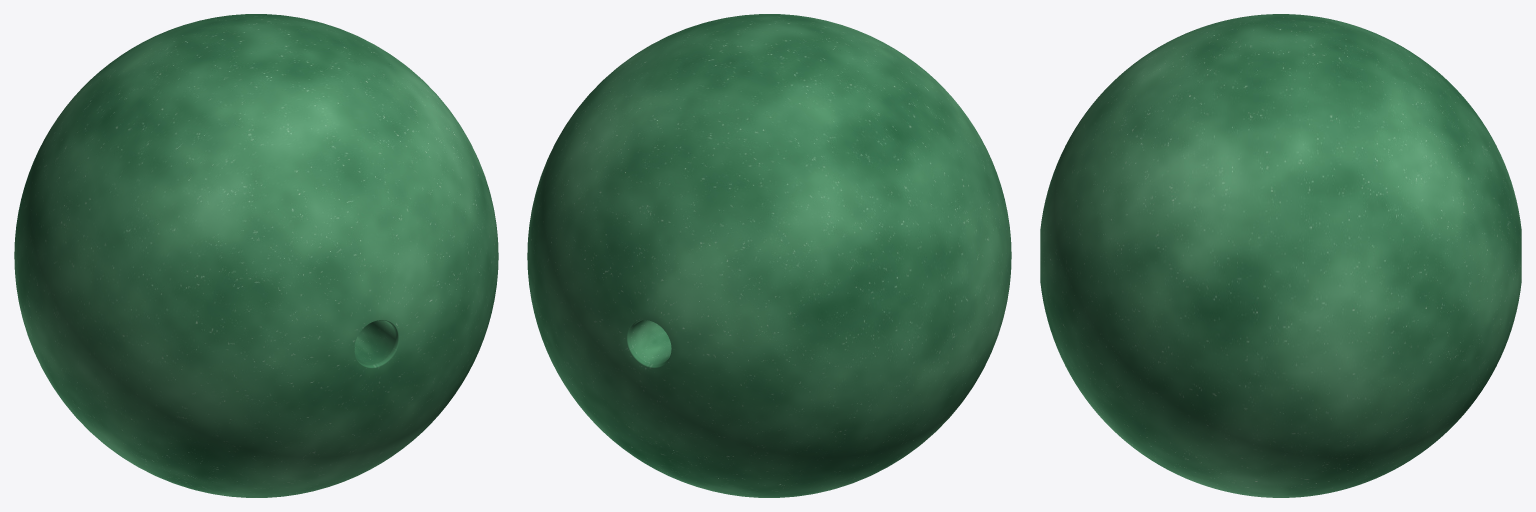
File: green-aventurine-10mm.glb
3 renders of one model, left to right at view 1: azimuth 30°, elevation 25°; view 2: azimuth 150°, elevation 25°; view 3: azimuth 270°, elevation 25°, orthographic.
Visible parts, largest first — view 1: green-aventurine.001; view 2: green-aventurine.001; view 3: green-aventurine.001.
Part boxes in pixels (x1,y1,x2,y2): green-aventurine.001: (14, 14, 498, 497); green-aventurine.001: (527, 14, 1011, 497); green-aventurine.001: (1040, 14, 1521, 497).
Size of the model in its own units: 0.01 by 0.01 by 0.00994.
Materials: 1 (1 with a texture image).
